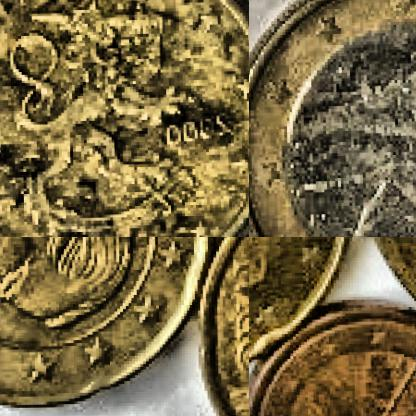coin: (0, 0, 248, 236), (249, 0, 415, 236), (0, 237, 214, 411), (249, 294, 415, 415)
